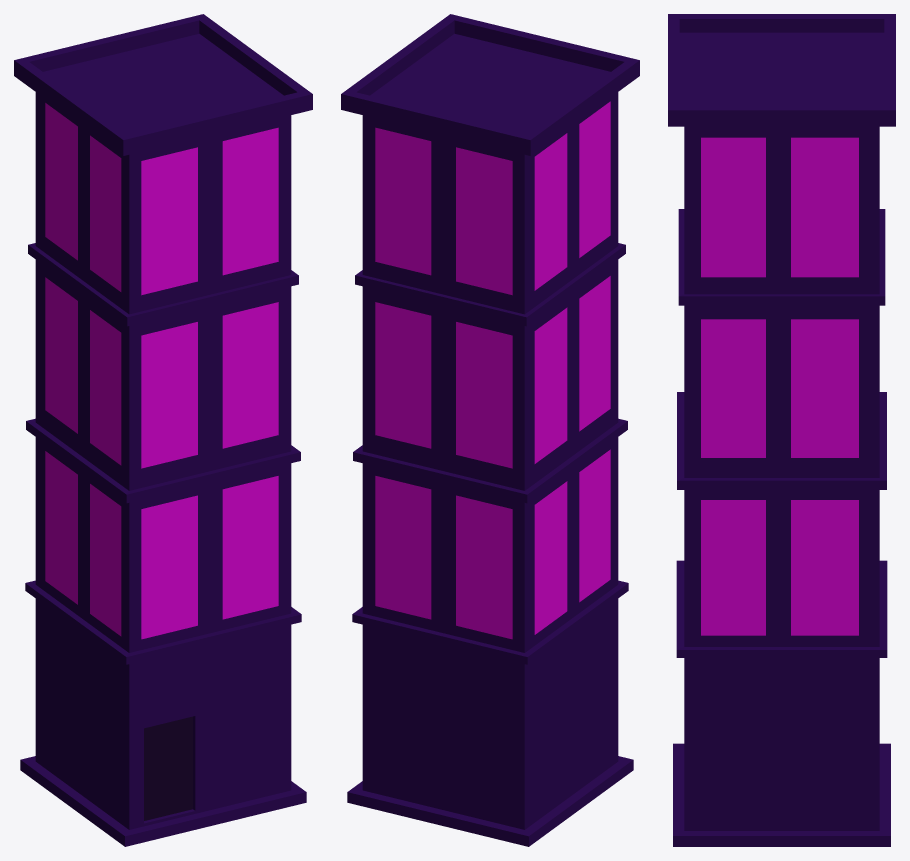
Rendered from Oscuro Morado Edificio 1.glb.
3 renders of one model, left to right at view 1: azimuth 30°, elevation 25°; view 2: azimuth 150°, elevation 25°; view 3: azimuth 270°, elevation 25°, orthographic. The views are drawn at different scales.
Visible parts, largest first — view 1: Cube.001; view 2: Cube.001; view 3: Cube.001.
Part boxes in pixels (x1,y1,x2,y2): Cube.001: [14, 14, 312, 846]; Cube.001: [341, 14, 639, 846]; Cube.001: [668, 14, 895, 846].
Bounding box in the file's own units: 13.84 × 49.53 × 13.84.
